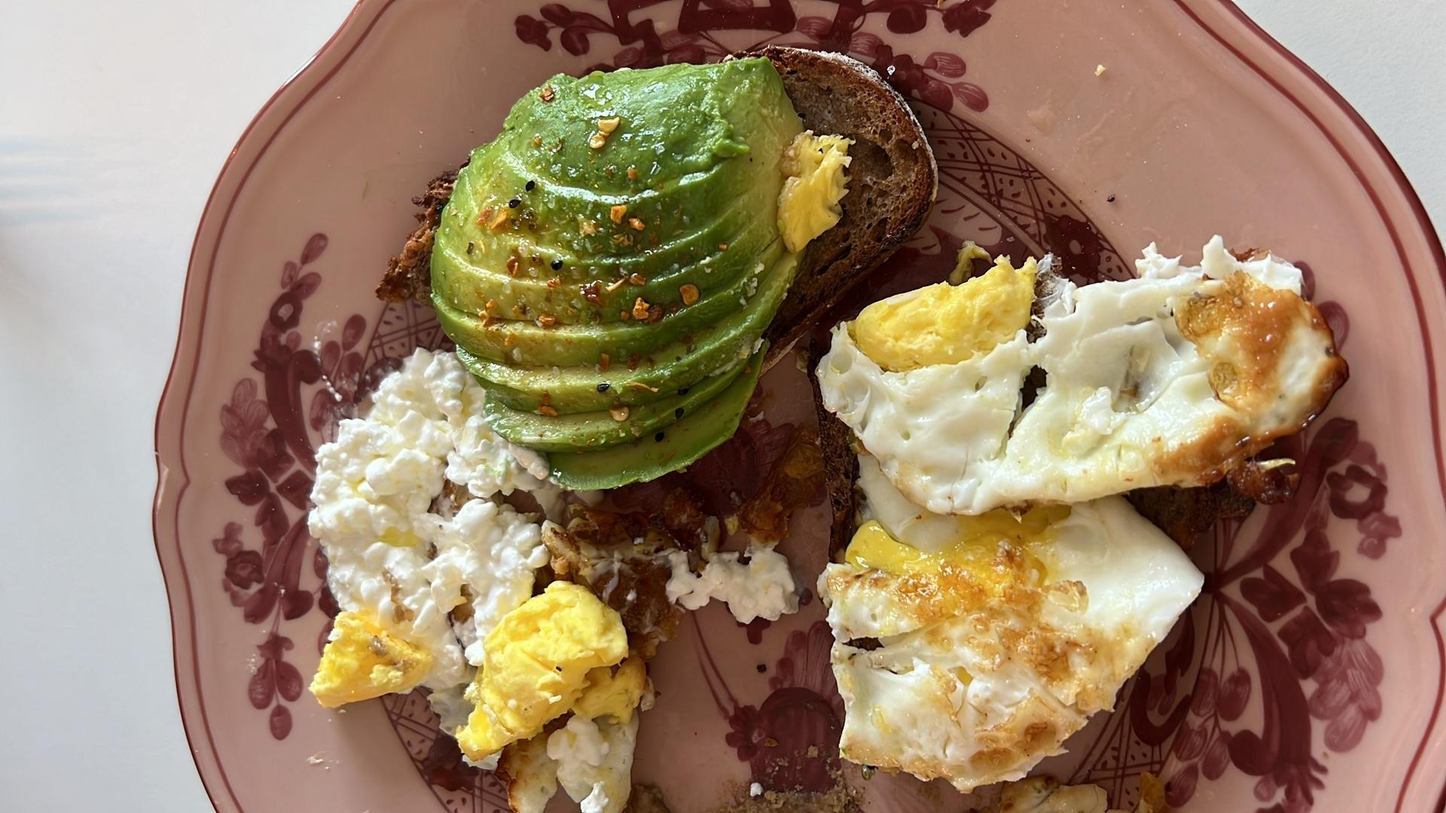avocado: (425, 48, 818, 497)
